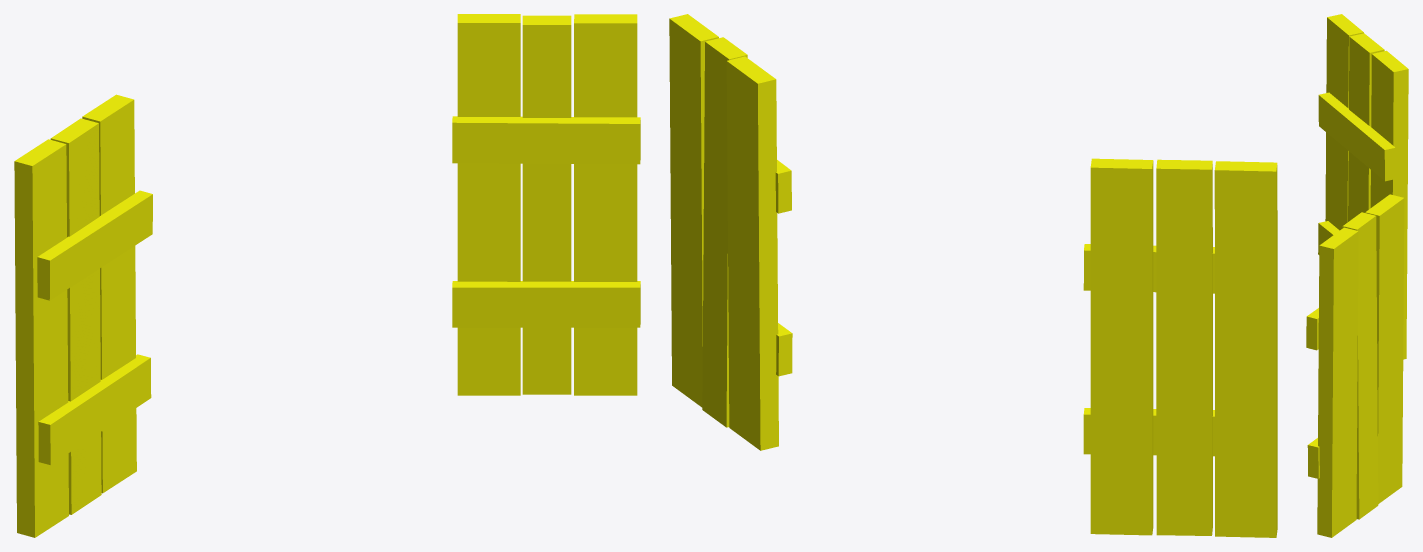
Rendered from windowshutters-wide-flat-open.glb.
The picture shows the model from 3 angles, left to right: view 1: azimuth 30°, elevation 25°; view 2: azimuth 150°, elevation 25°; view 3: azimuth 270°, elevation 25°; orthographic projection. The views are drawn at different scales.
Parts seen in each view (by area): view 1: WindowShutters_Wide_Flat_Open; view 2: WindowShutters_Wide_Flat_Open; view 3: WindowShutters_Wide_Flat_Open.
Part boxes in pixels (x1,y1,x2,y2): WindowShutters_Wide_Flat_Open: (14,14,640,537); WindowShutters_Wide_Flat_Open: (669,14,1277,537); WindowShutters_Wide_Flat_Open: (1306,14,1408,537).
Size of the model in its own units: 2.48 by 1.42 by 0.4565.
Materials: 1 (1 with a texture image).
